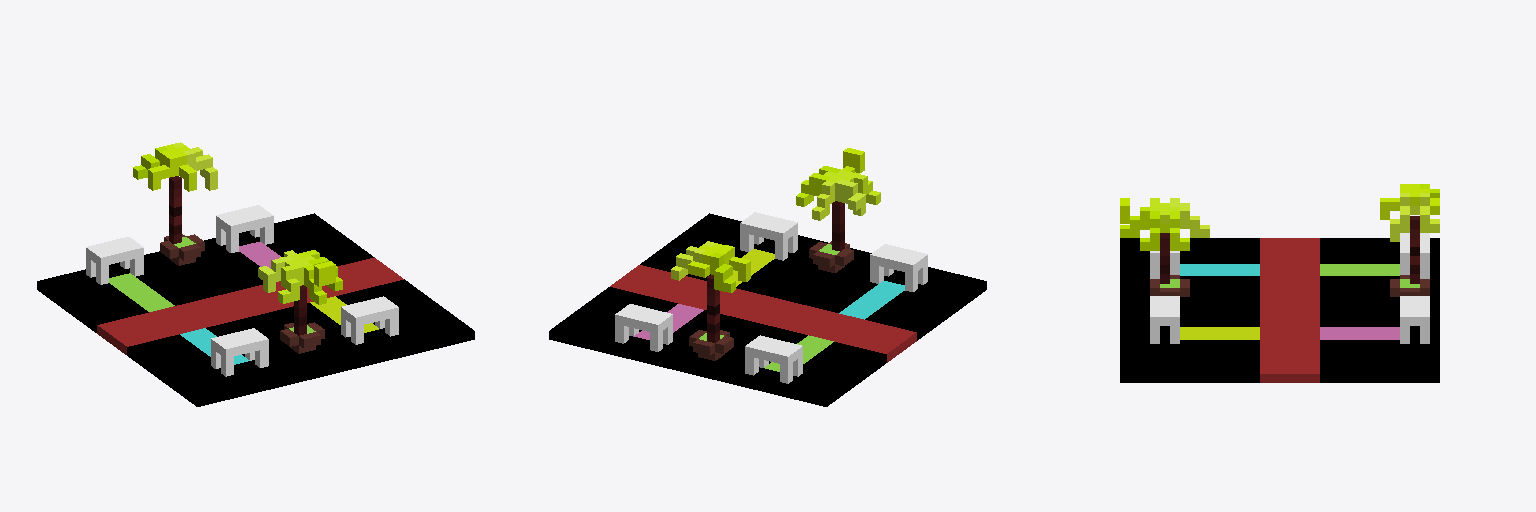
The picture shows the model from 3 angles: view 1: azimuth 30°, elevation 25°; view 2: azimuth 150°, elevation 25°; view 3: azimuth 270°, elevation 25°; orthographic projection.
Visible parts, largest first — view 1: object 1; view 2: object 1; view 3: object 1.
Boxes of the visible parts, box(x1,y1,x2,y2) form: object 1: box(37, 142, 474, 406); object 1: box(549, 148, 986, 406); object 1: box(1120, 184, 1439, 382).
Bounding box in the file's own units: 25.6 × 10.4 × 25.6.
Materials: 1 (1 with a texture image).